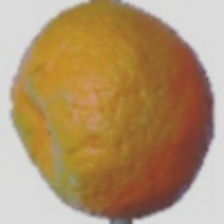tangerine: (36, 22, 202, 199)
